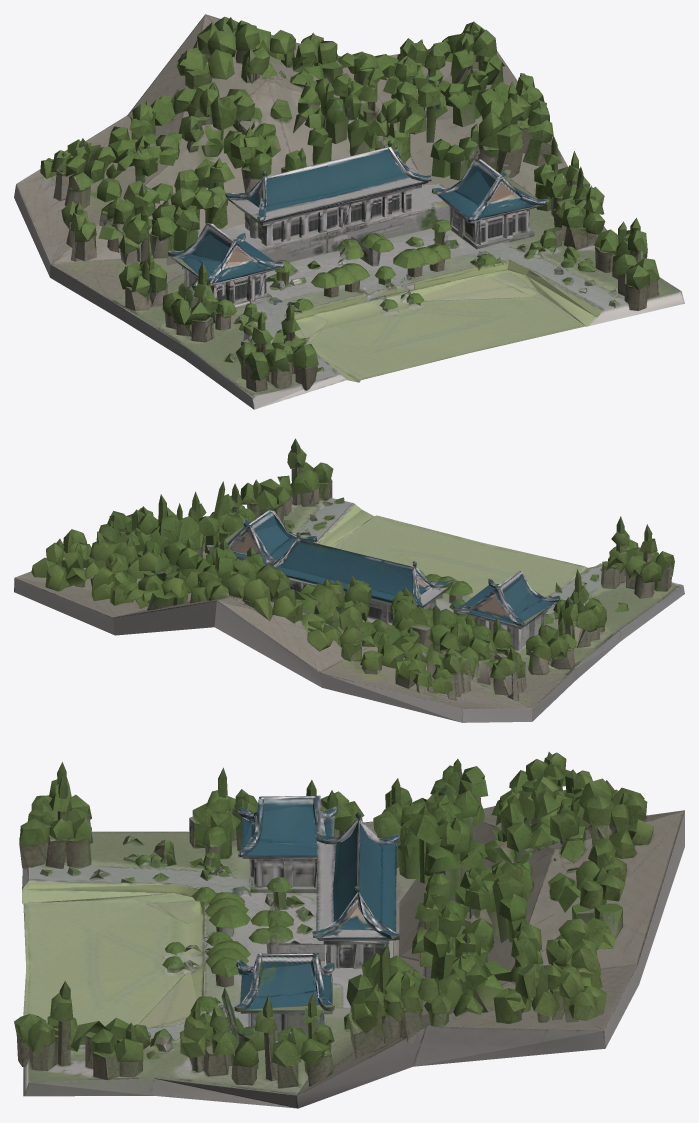
File: blue house.glb
3 renders of one model, top to bottom at view 1: azimuth 30°, elevation 25°; view 2: azimuth 150°, elevation 25°; view 3: azimuth 270°, elevation 25°, orthographic. The views are drawn at different scales.
Visible parts, largest first — view 1: mesh_node; view 2: mesh_node; view 3: mesh_node.
Boxes of the visible parts, x1,y1,x2,y2 form: mesh_node: [14, 14, 684, 409]; mesh_node: [14, 438, 684, 722]; mesh_node: [14, 752, 684, 1108].
Size of the model in its own units: 1 by 0.3027 by 0.9727.
Materials: 1 (1 with a texture image).
